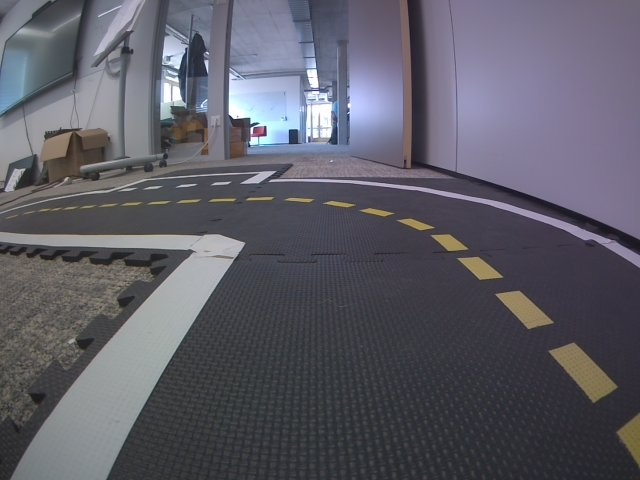freeSpot: (113, 173, 277, 191)
